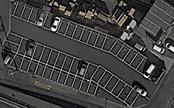parkingspot: (12, 2, 166, 85), (9, 53, 99, 97), (16, 36, 100, 82), (91, 65, 141, 108), (2, 32, 24, 54)
